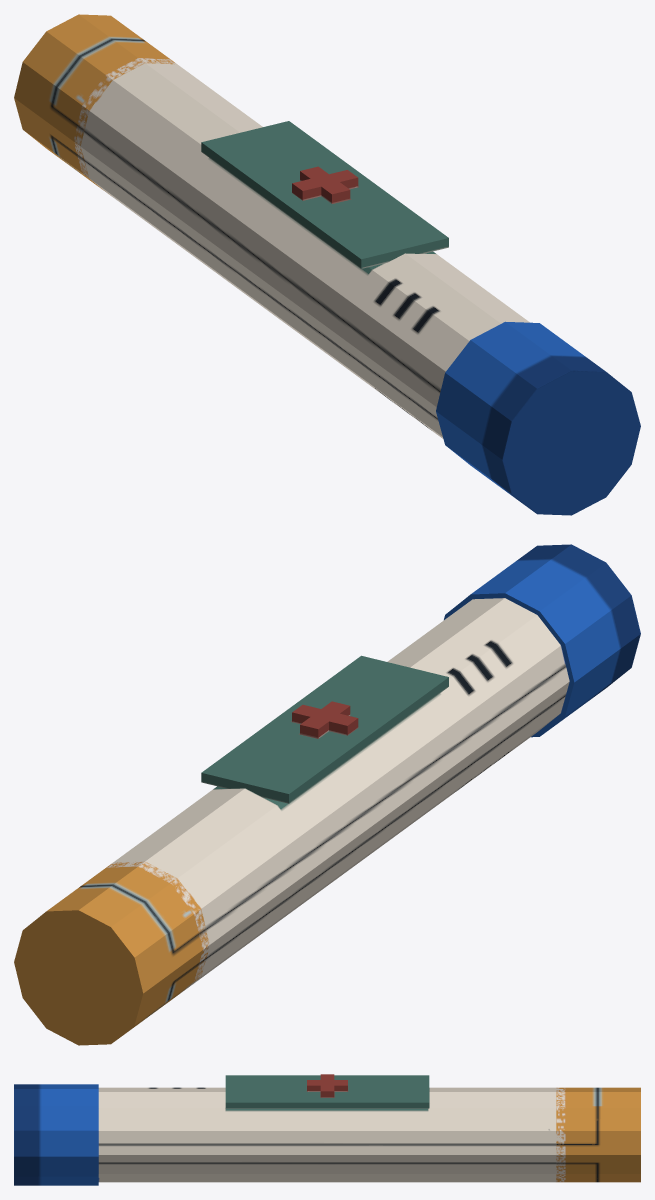
File: injector.glb
3 renders of one model, top to bottom at view 1: azimuth 30°, elevation 25°; view 2: azimuth 150°, elevation 25°; view 3: azimuth 270°, elevation 25°, orthographic. The views are drawn at different scales.
Parts seen in each view (by area): view 1: injector; view 2: injector; view 3: injector.
Boxes of the visible parts, bbox=[...] form: injector: bbox=[14, 14, 640, 515]; injector: bbox=[14, 544, 640, 1045]; injector: bbox=[14, 1074, 640, 1185].
Size of the model in its own units: 0.03 by 0.032 by 0.185.
Materials: 1 (1 with a texture image).
